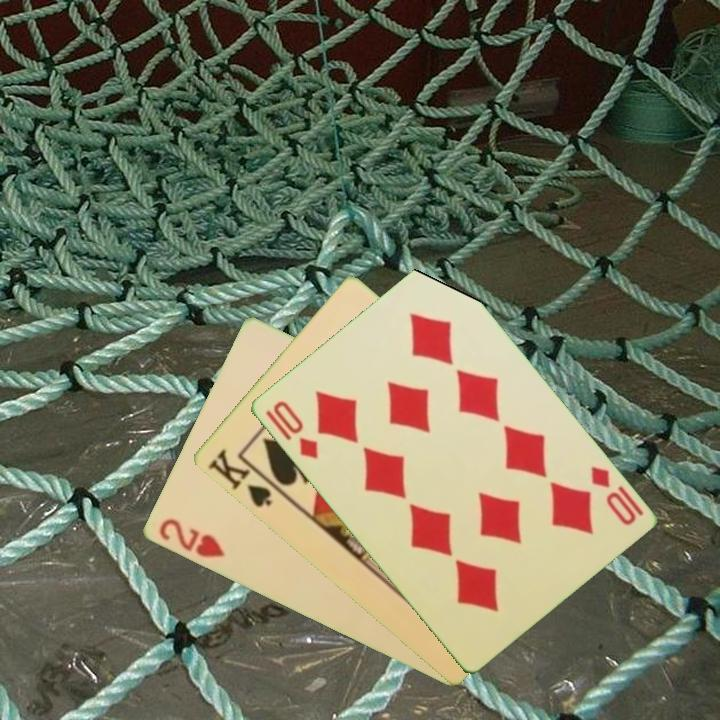10d: (586, 462, 646, 529), (268, 396, 321, 462)
2h: (154, 515, 228, 561)
Ks: (203, 445, 274, 511)
